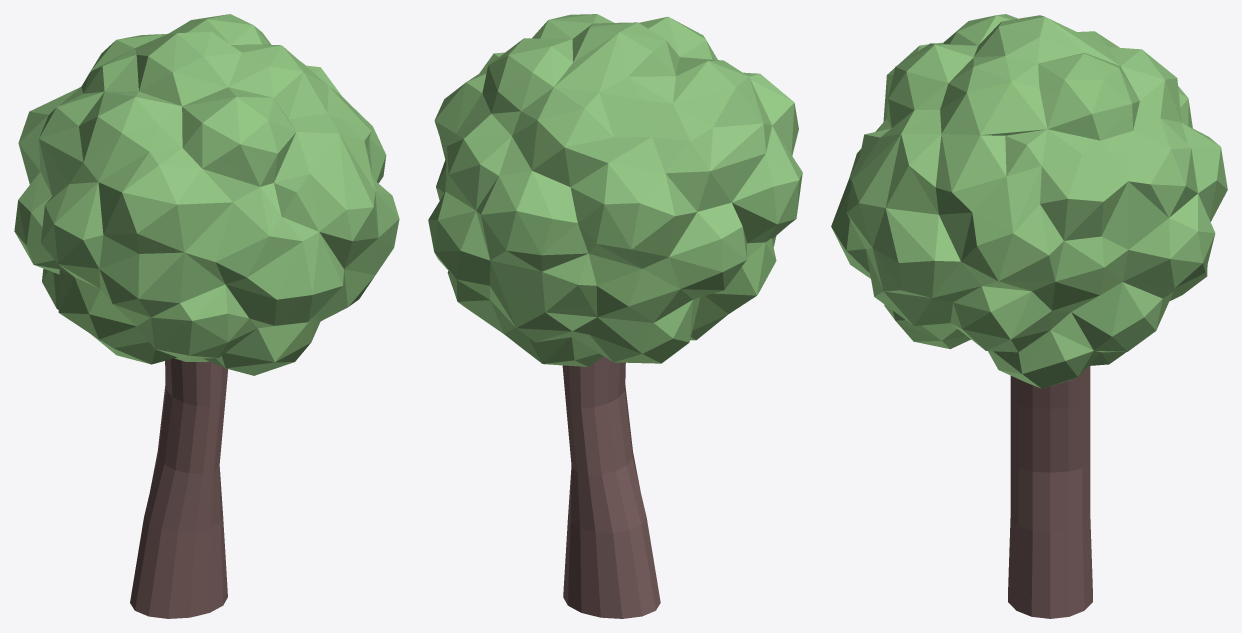
The model's file is SM_Tree.fbx.
The picture shows the model from 3 angles, left to right: view 1: azimuth 30°, elevation 25°; view 2: azimuth 150°, elevation 25°; view 3: azimuth 270°, elevation 25°; orthographic projection.
Visible parts, largest first — view 1: SM_Tree; view 2: SM_Tree; view 3: SM_Tree.
Boxes of the visible parts, x1,y1,x2,y2 form: SM_Tree: (14,14,399,618); SM_Tree: (428,14,802,618); SM_Tree: (831,14,1227,618).
Bounding box in the file's own units: 318 × 516 × 321.
1 material, 1 textured.
